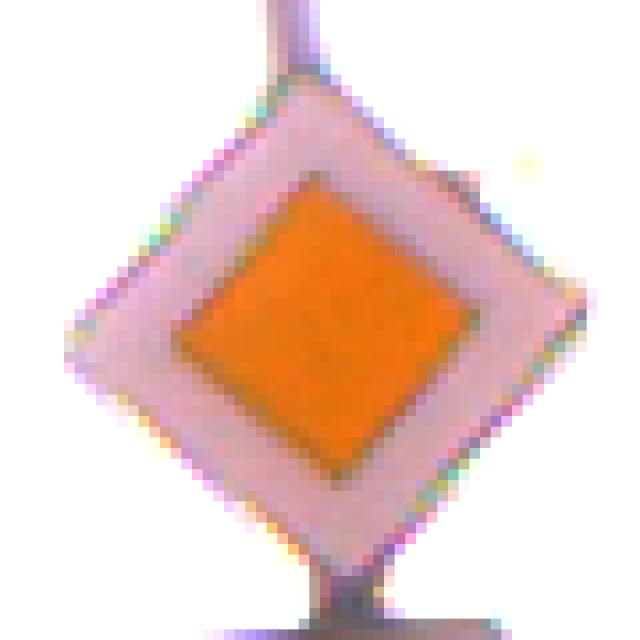Main Road: (65, 65, 577, 588)
